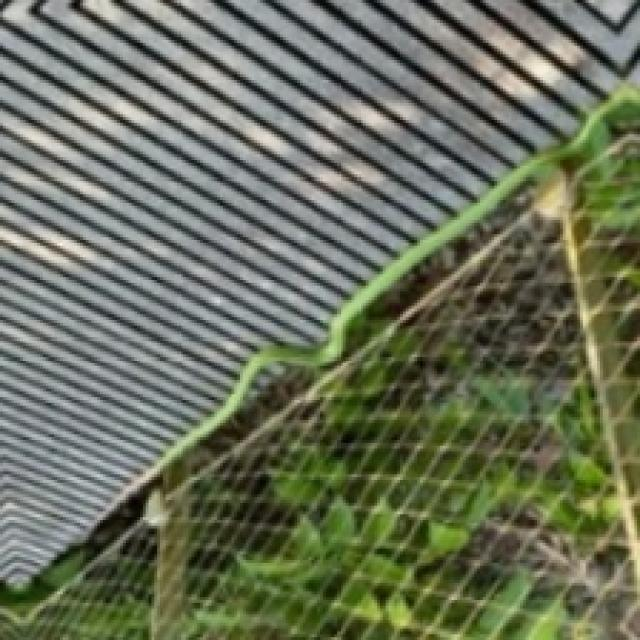red-tailed green ratsnake: (89, 88, 640, 539)
